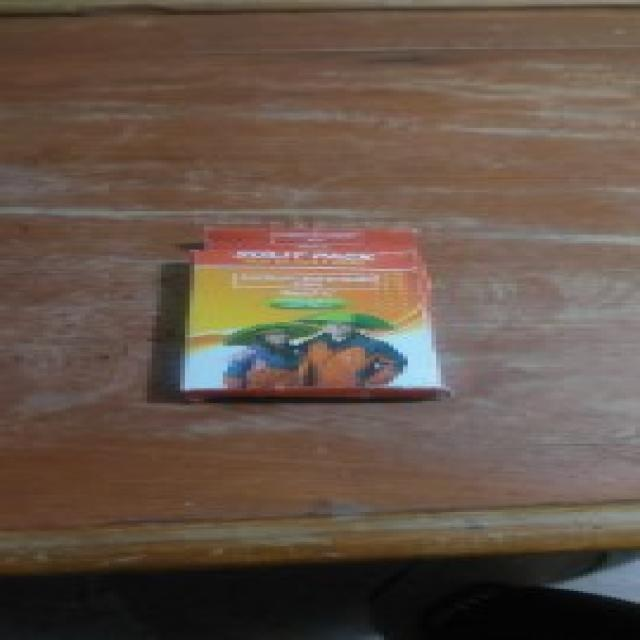Cacat: (180, 228, 439, 396)
